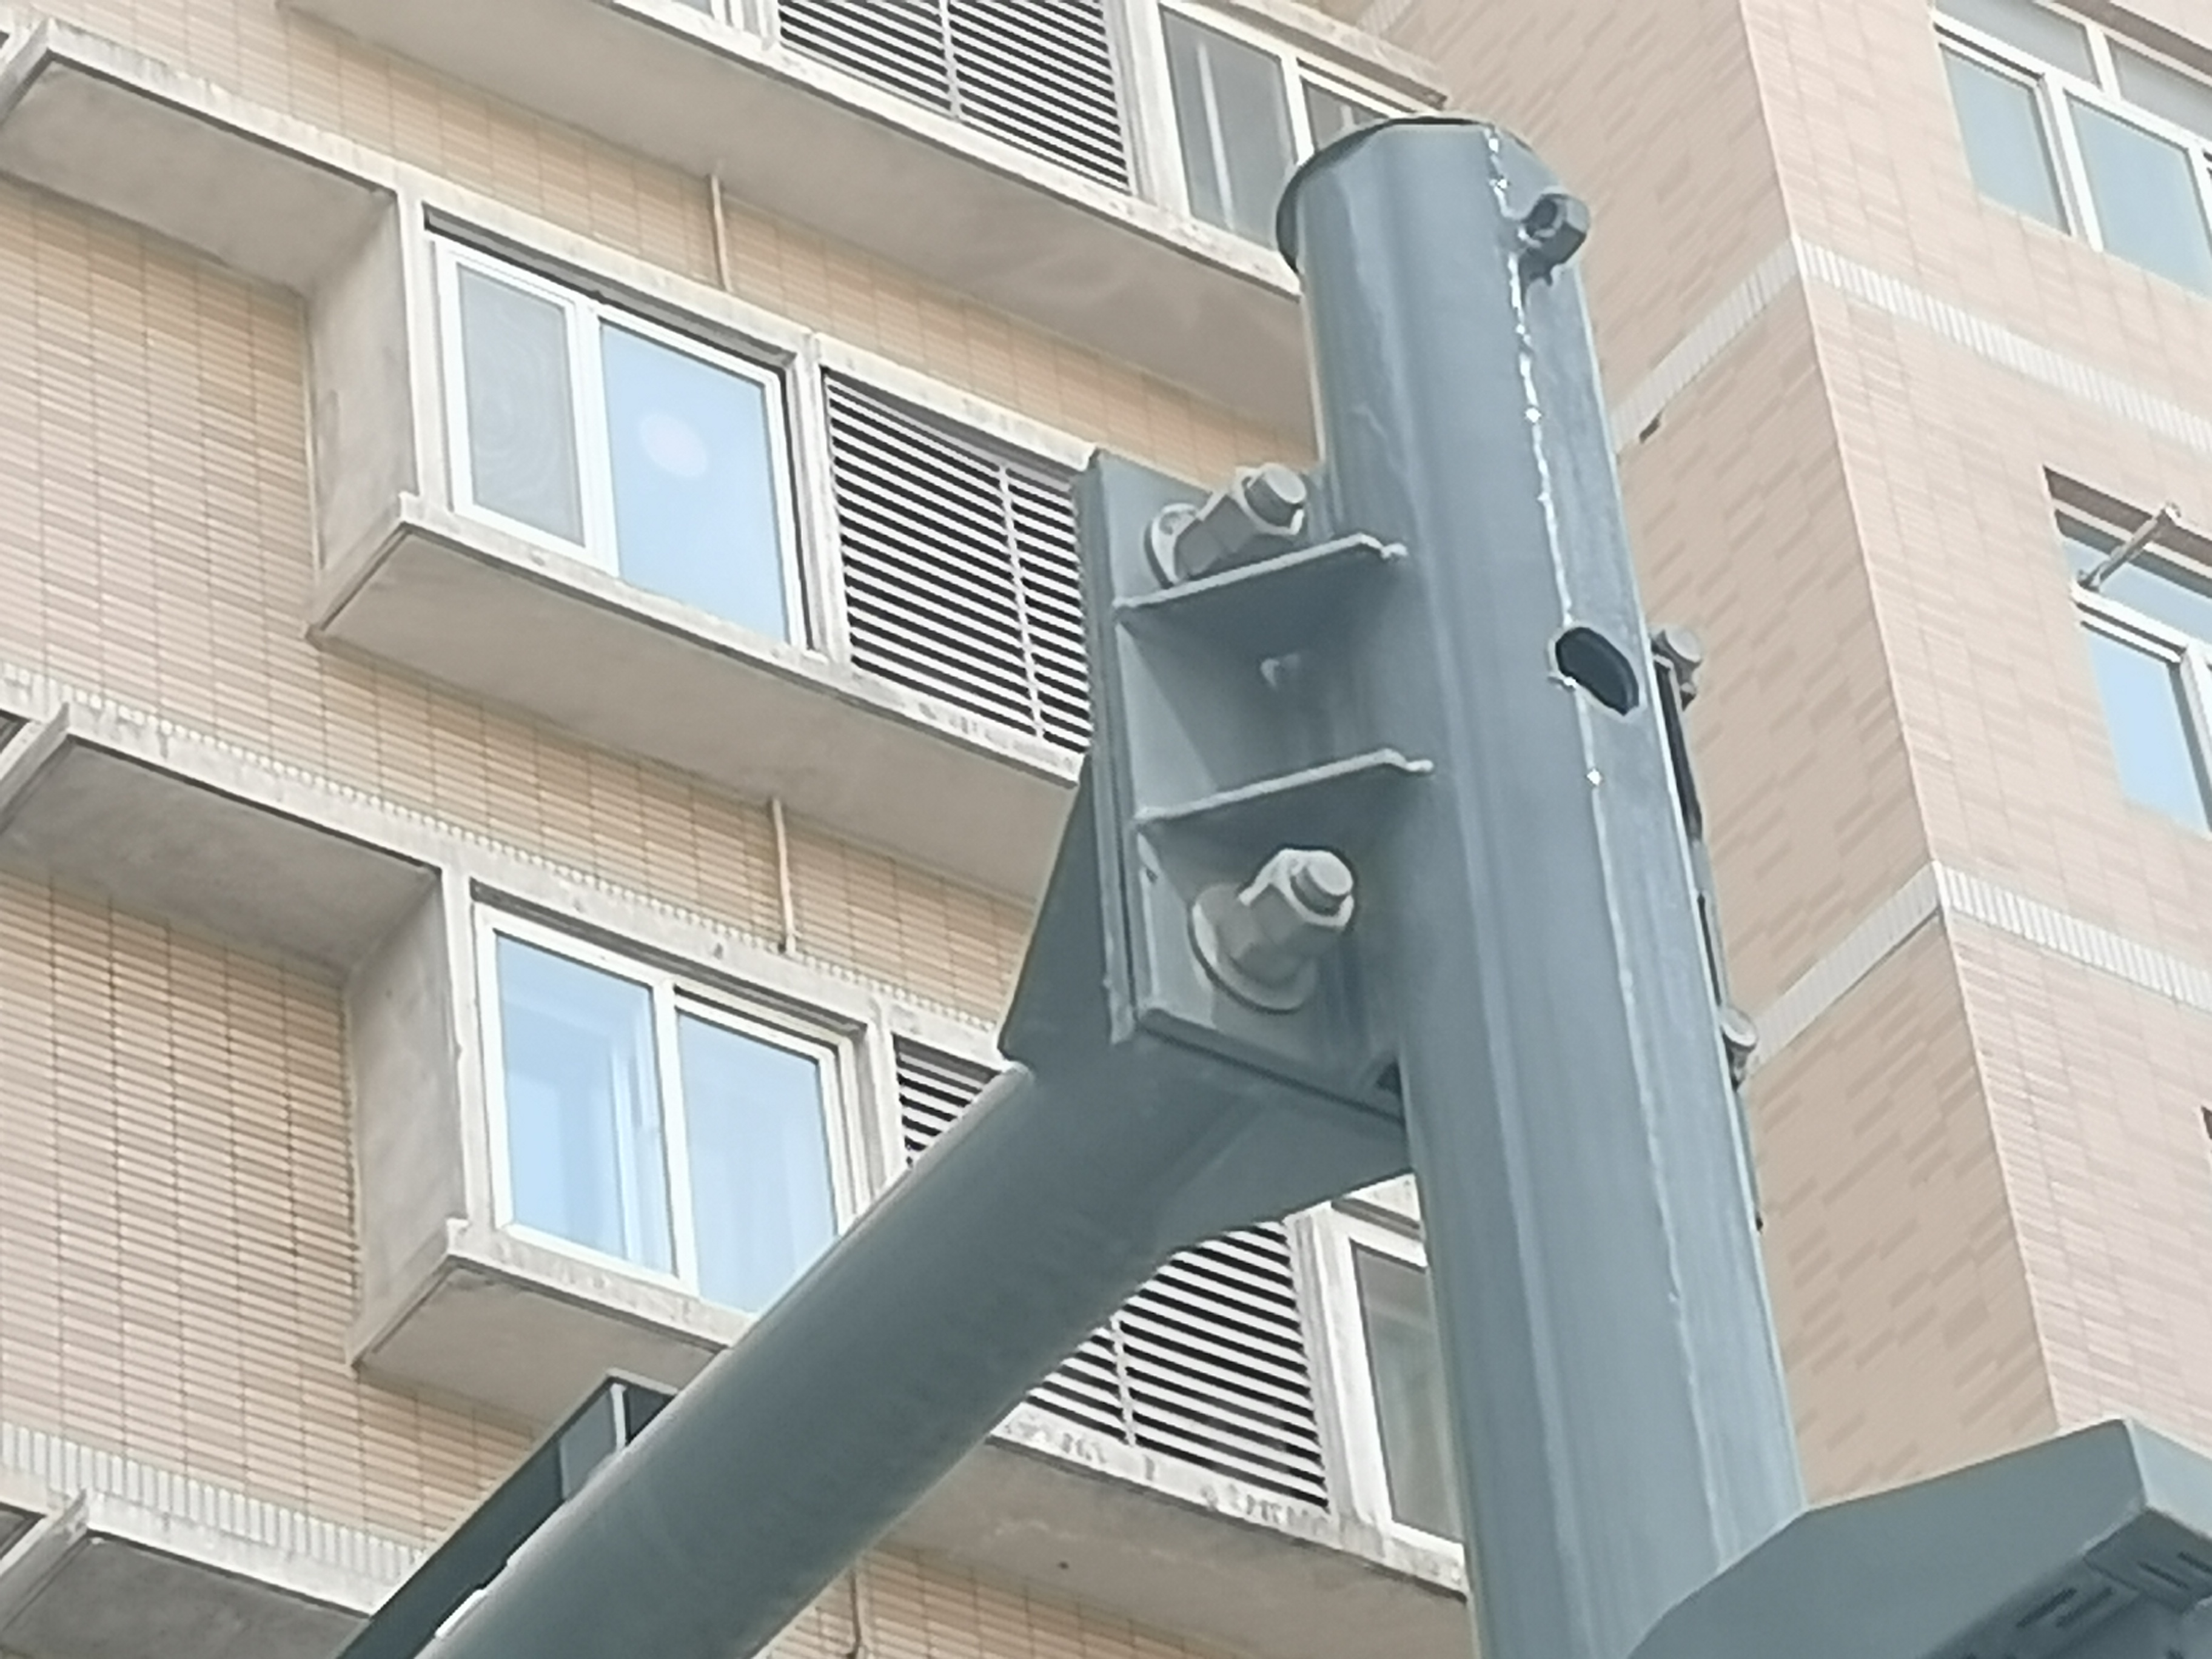bolt_b: (1247, 840, 1360, 964), (1205, 457, 1310, 566)
